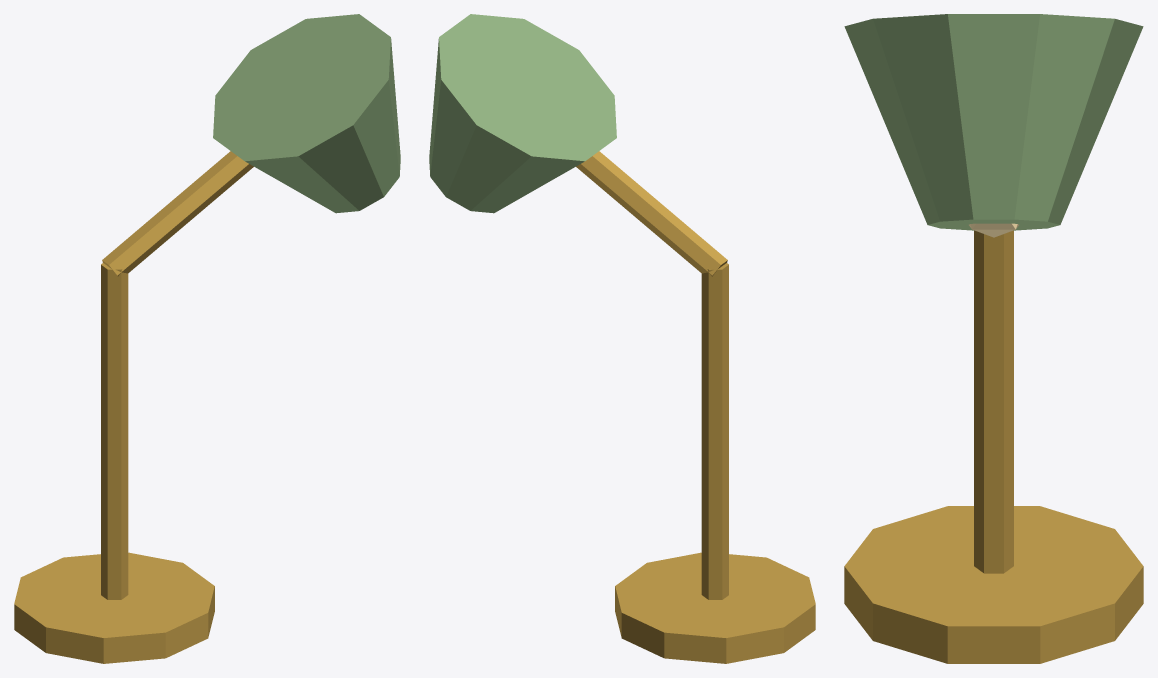
File: brass_desk_lamp.glb
3 renders of one model, left to right at view 1: azimuth 30°, elevation 25°; view 2: azimuth 150°, elevation 25°; view 3: azimuth 270°, elevation 25°, orthographic. The views are drawn at different scales.
Parts seen in each view (by area): view 1: brass_desk_lamp; view 2: brass_desk_lamp; view 3: brass_desk_lamp.
Boxes of the visible parts, x1,y1,x2,y2 form: brass_desk_lamp: [14, 14, 400, 663]; brass_desk_lamp: [429, 14, 815, 663]; brass_desk_lamp: [844, 14, 1143, 663].
Size of the model in its own units: 0.3685 by 0.5148 by 0.18.
